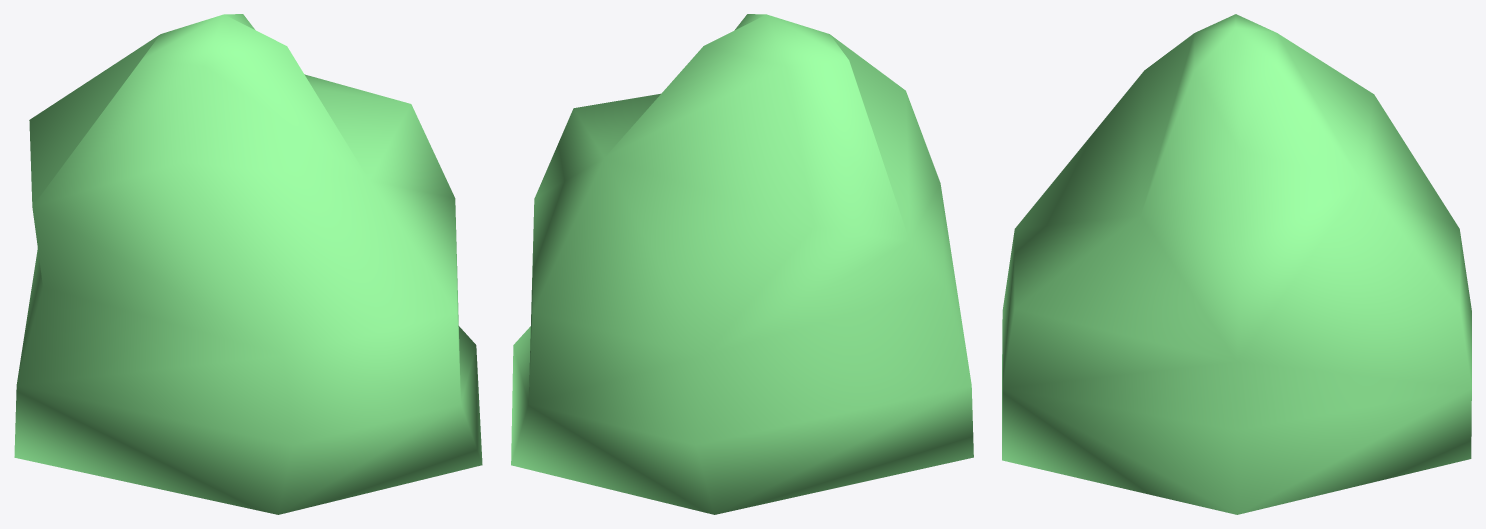
The model's file is Rock.fbx.
3 renders of one model, left to right at view 1: azimuth 30°, elevation 25°; view 2: azimuth 150°, elevation 25°; view 3: azimuth 270°, elevation 25°, orthographic. The views are drawn at different scales.
Visible parts, largest first — view 1: Sphere01; view 2: Sphere01; view 3: Sphere01.
Part boxes in pixels (left/top/right/bottom): Sphere01: left=14, top=14, right=482, bottom=514; Sphere01: left=511, top=14, right=973, bottom=514; Sphere01: left=1002, top=14, right=1471, bottom=514.
Bounding box in the file's own units: 106 × 85.99 × 98.67.
